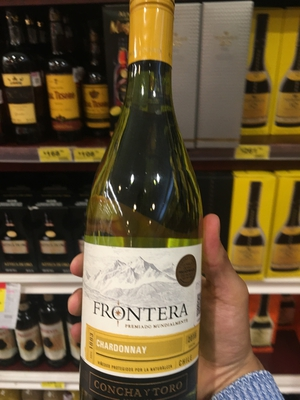frontera chardonnay: (49, 2, 220, 400)
